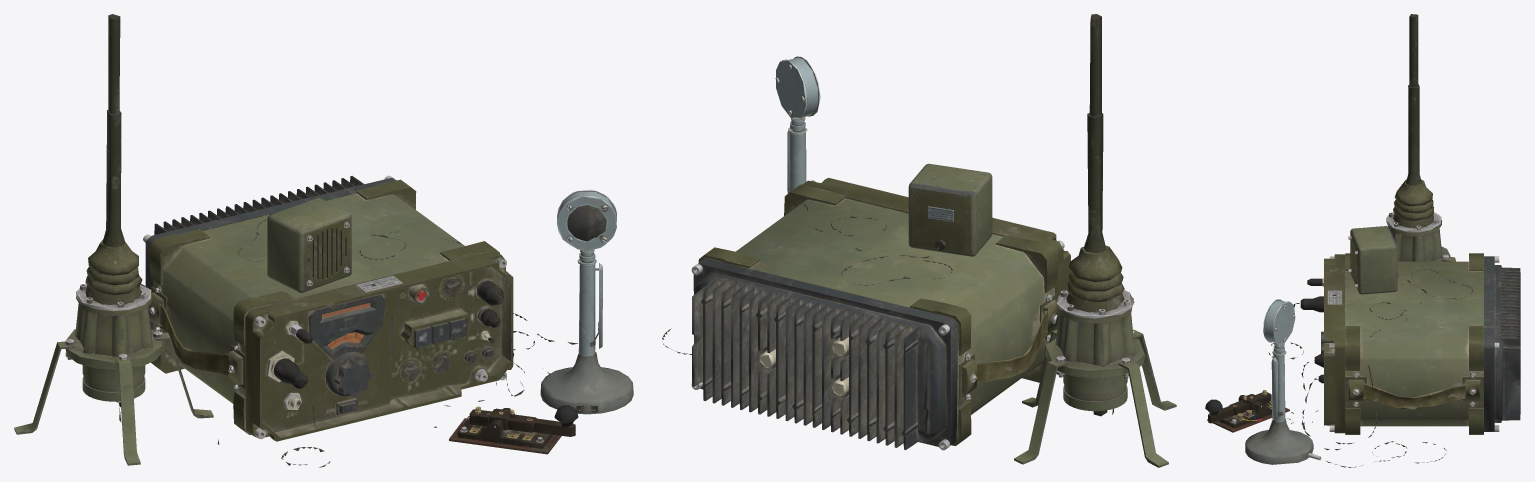
The model's file is vintage_radio_transceiver.glb.
3 views of the same model, side by side, from view 1: azimuth 30°, elevation 25°; view 2: azimuth 150°, elevation 25°; view 3: azimuth 270°, elevation 25° (orthographic). The views are drawn at different scales.
Parts seen in each view (by area): view 1: vintage_radio_transceiver, vintage_radio_transceiver_cable; view 2: vintage_radio_transceiver, vintage_radio_transceiver_cable; view 3: vintage_radio_transceiver, vintage_radio_transceiver_cable.
Boxes of the visible parts, bbox=[...] form: vintage_radio_transceiver: bbox=[143, 175, 513, 441]; vintage_radio_transceiver_cable: bbox=[14, 14, 633, 467]; vintage_radio_transceiver: bbox=[691, 177, 1070, 450]; vintage_radio_transceiver_cable: bbox=[662, 14, 1176, 467]; vintage_radio_transceiver: bbox=[1321, 253, 1520, 434]; vintage_radio_transceiver_cable: bbox=[1205, 14, 1472, 467].
Size of the model in its own units: 0.574 by 0.4344 by 0.4131.
Materials: 2 (2 with a texture image).
